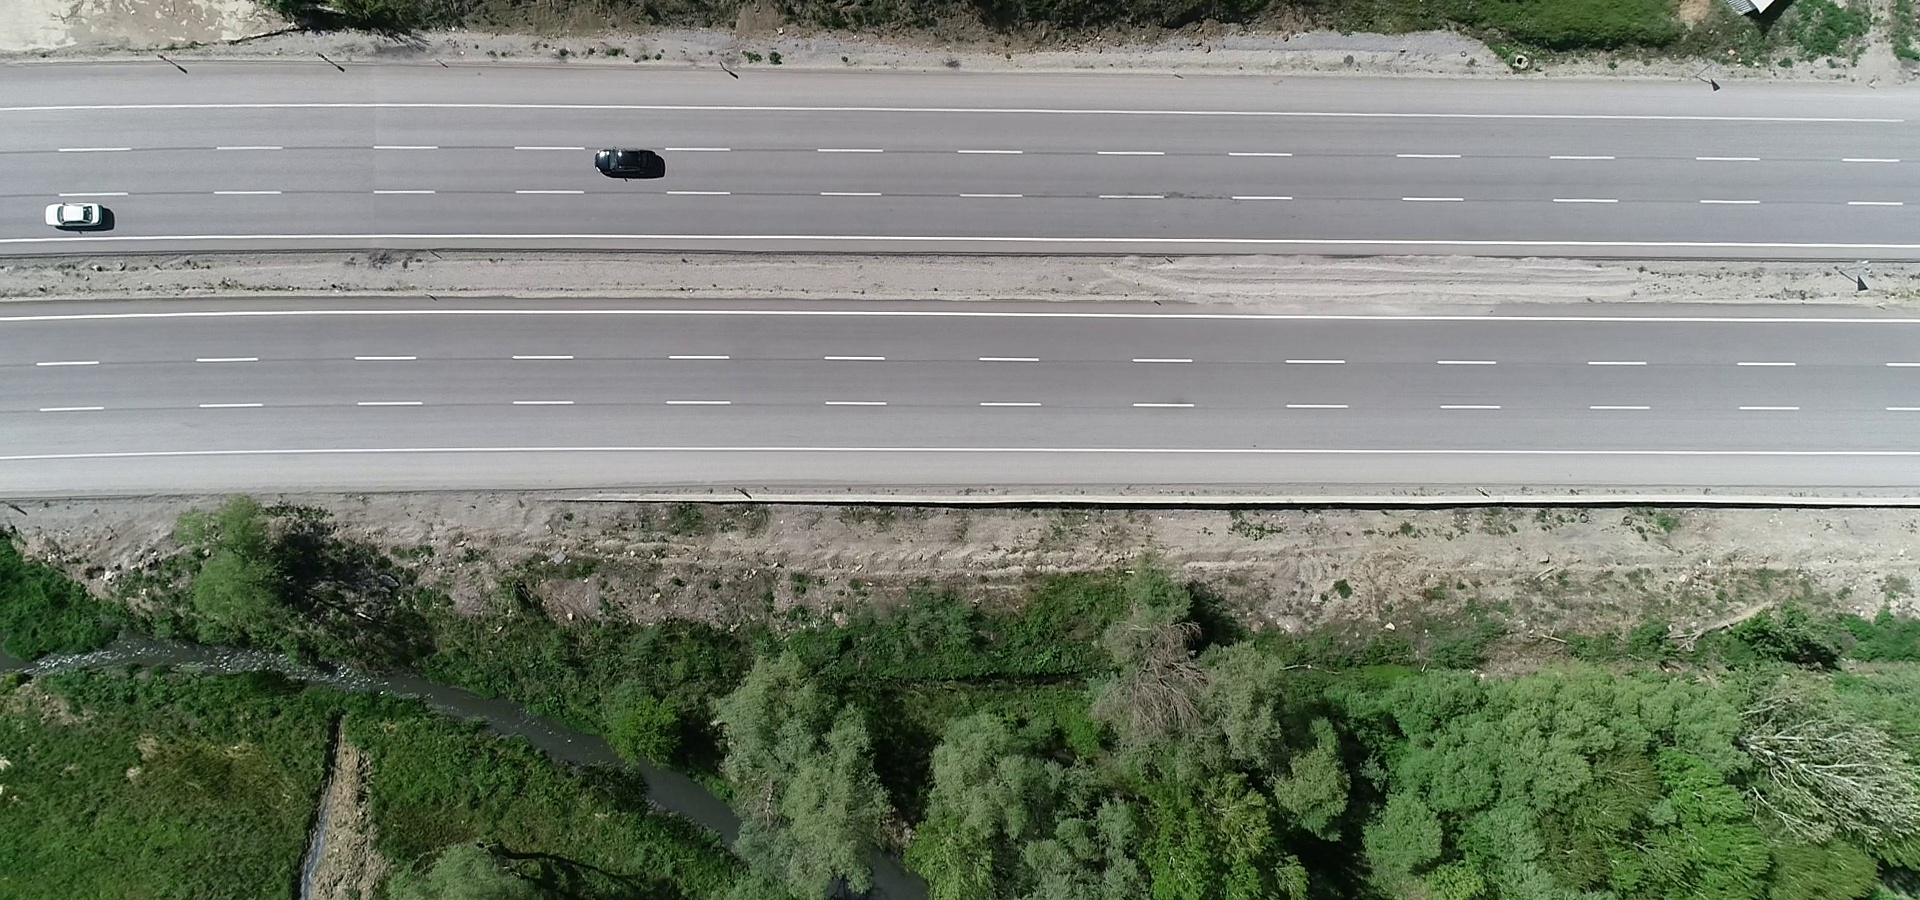arac: (44, 190, 122, 238), (589, 147, 673, 174)
